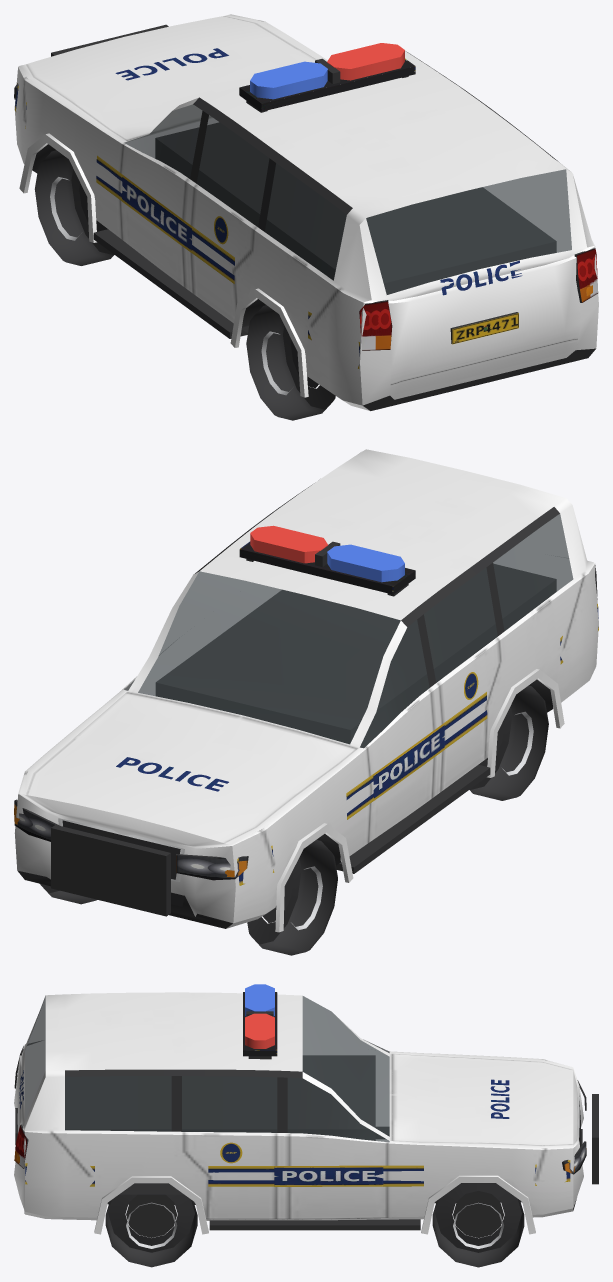
The model's file is police_landcruiser_lod1.glb.
3 renders of one model, top to bottom at view 1: azimuth 30°, elevation 25°; view 2: azimuth 150°, elevation 25°; view 3: azimuth 270°, elevation 25°, orthographic. The views are drawn at different scales.
Parts seen in each view (by area): view 1: body, wheel_rl_mesh, wheel_fl_mesh; view 2: body, wheel_fl_mesh, wheel_rl_mesh; view 3: body, wheel_fr_mesh, wheel_rr_mesh.
Part boxes in pixels (x1,y1,x2,y2): body: (14, 14, 598, 411); wheel_rl_mesh: (246, 305, 335, 420); wheel_fl_mesh: (34, 150, 114, 265); body: (14, 449, 598, 932); wheel_fl_mesh: (247, 840, 337, 955); wheel_rl_mesh: (469, 685, 548, 800); body: (14, 984, 598, 1234); wheel_fr_mesh: (432, 1183, 524, 1267); wheel_rr_mesh: (105, 1194, 197, 1267).
Size of the model in its own units: 2.03 by 2.02 by 5.1.
Materials: 14 (6 with a texture image).
